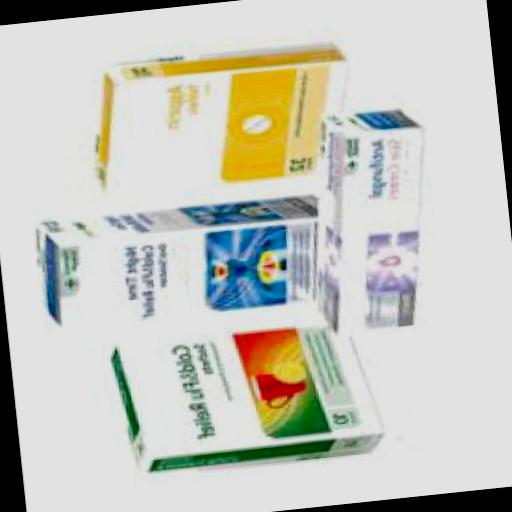cardboard: (29, 189, 329, 339), (102, 316, 382, 476), (80, 40, 353, 195), (290, 105, 440, 331)
